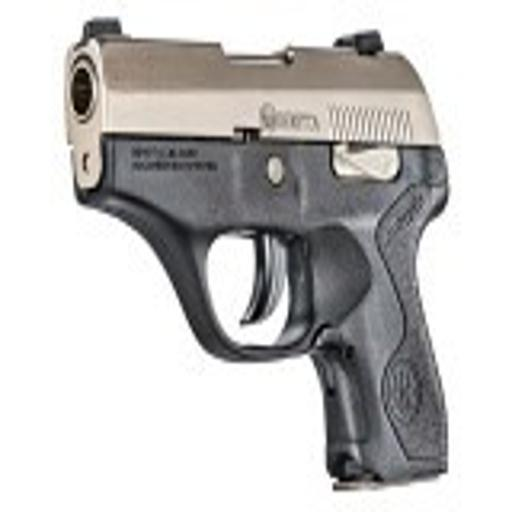Handgun: (63, 16, 453, 489)
